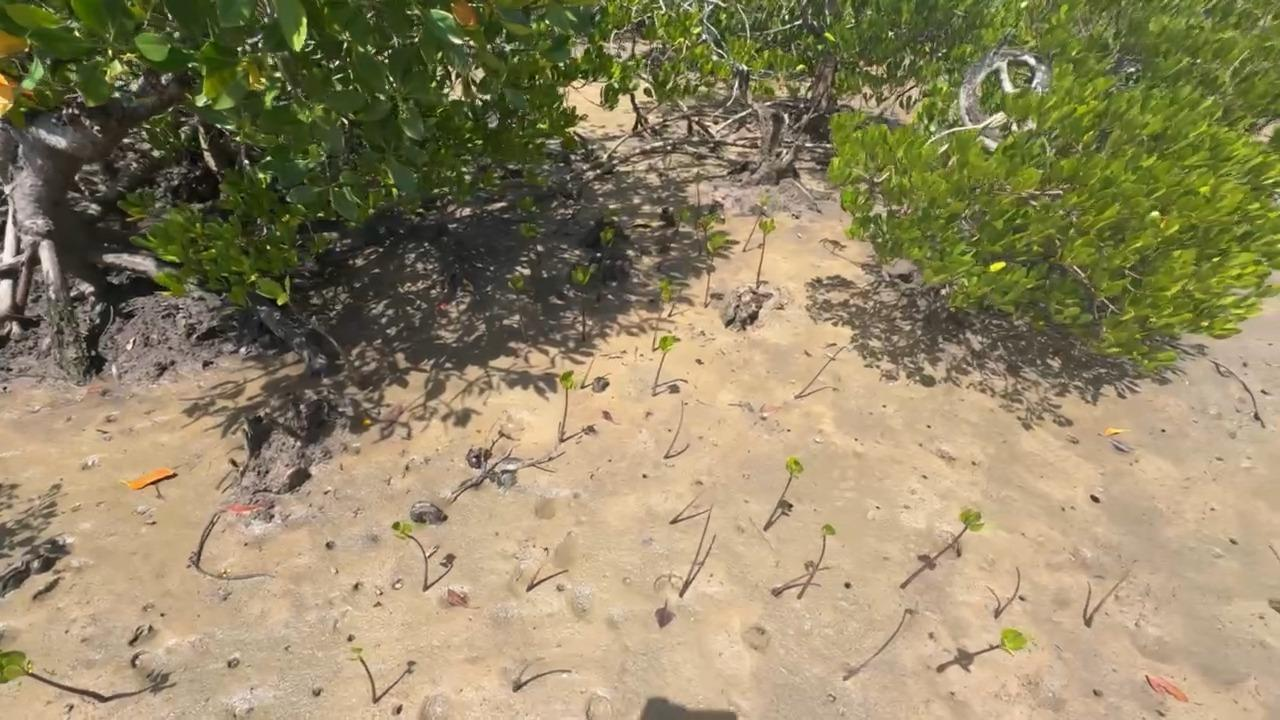Tree: (0, 651, 105, 701), (680, 501, 713, 598), (931, 507, 986, 561), (798, 522, 836, 599), (764, 457, 803, 529), (794, 347, 846, 398), (392, 520, 429, 591), (650, 275, 683, 349), (570, 263, 598, 341), (1085, 574, 1125, 628), (772, 560, 830, 597), (651, 335, 681, 397), (971, 627, 1029, 657), (744, 189, 771, 253), (988, 566, 1021, 618), (347, 647, 377, 704), (705, 233, 726, 308), (509, 271, 529, 341), (512, 668, 574, 689), (758, 217, 776, 287), (558, 370, 575, 442), (664, 401, 685, 458), (525, 568, 570, 592), (597, 229, 611, 301), (699, 211, 715, 255), (671, 508, 709, 525), (692, 170, 704, 215)
